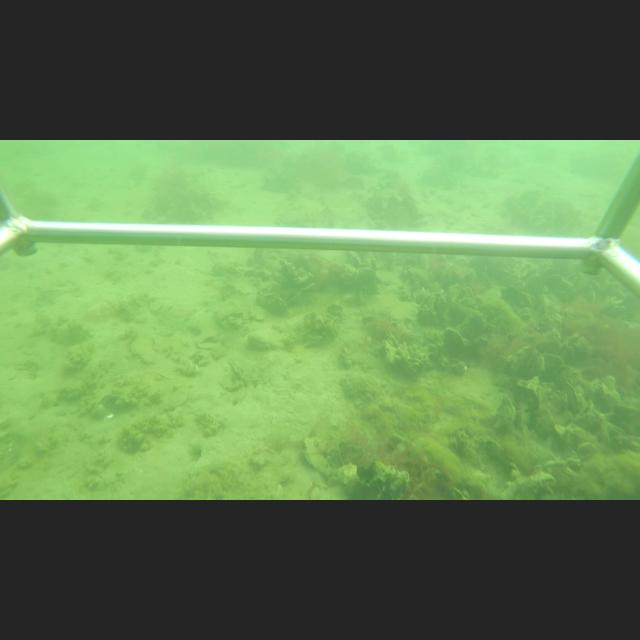Oyster-Closed: (300, 436, 334, 476), (512, 344, 546, 381), (529, 407, 557, 441), (247, 327, 286, 351), (442, 326, 466, 358), (461, 309, 485, 337), (496, 394, 516, 424), (303, 334, 323, 348), (384, 331, 400, 347)
Oyster-Open: (418, 290, 437, 312)
